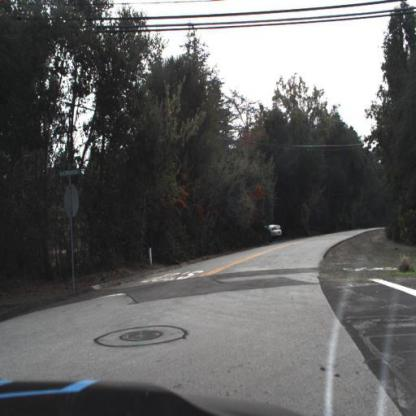car: (264, 212, 292, 243), (265, 223, 284, 241)
